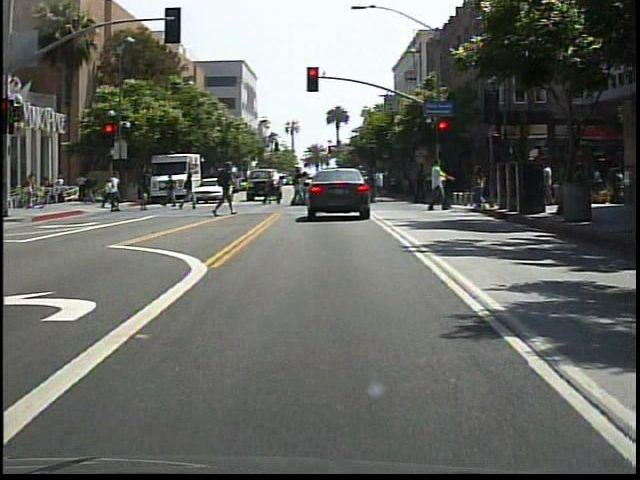person: (424, 157, 456, 214), (211, 160, 239, 217), (339, 166, 361, 216), (107, 170, 127, 217), (180, 170, 202, 212), (163, 170, 180, 211), (259, 170, 275, 207)
